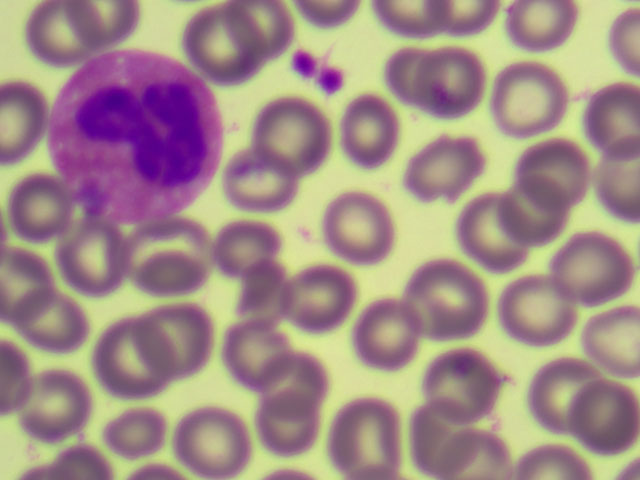Platelets: (291, 46, 317, 76), (321, 64, 344, 94)
RBC: (404, 263, 493, 340), (422, 347, 500, 423), (186, 1, 266, 74), (251, 102, 335, 171), (98, 329, 180, 398), (528, 360, 607, 428), (565, 380, 640, 450), (135, 310, 215, 375), (225, 321, 297, 393), (16, 378, 97, 440), (524, 137, 590, 213), (281, 267, 363, 327), (177, 407, 247, 477), (461, 189, 523, 268), (258, 339, 324, 413), (131, 230, 215, 287), (340, 398, 398, 480), (555, 239, 632, 300), (420, 48, 485, 120), (353, 302, 418, 372), (508, 278, 579, 341), (319, 195, 391, 257), (57, 231, 127, 294), (229, 145, 297, 209), (500, 178, 565, 244), (13, 295, 92, 349), (410, 399, 468, 471), (413, 133, 475, 199), (501, 70, 562, 135), (1, 78, 46, 166), (9, 174, 66, 243), (233, 261, 291, 327), (449, 422, 515, 480), (3, 251, 55, 322), (588, 308, 640, 378), (256, 394, 316, 454), (346, 92, 395, 163), (25, 1, 79, 64), (229, 1, 290, 56), (590, 86, 640, 152), (504, 1, 576, 45), (214, 228, 282, 274), (108, 405, 167, 458), (372, 1, 455, 38), (387, 50, 433, 113), (65, 1, 139, 40), (20, 451, 109, 480), (595, 152, 639, 210), (424, 1, 494, 32), (609, 10, 640, 74), (521, 448, 580, 480), (1, 341, 27, 410)
WBC: (60, 59, 218, 222), (60, 61, 217, 218)
